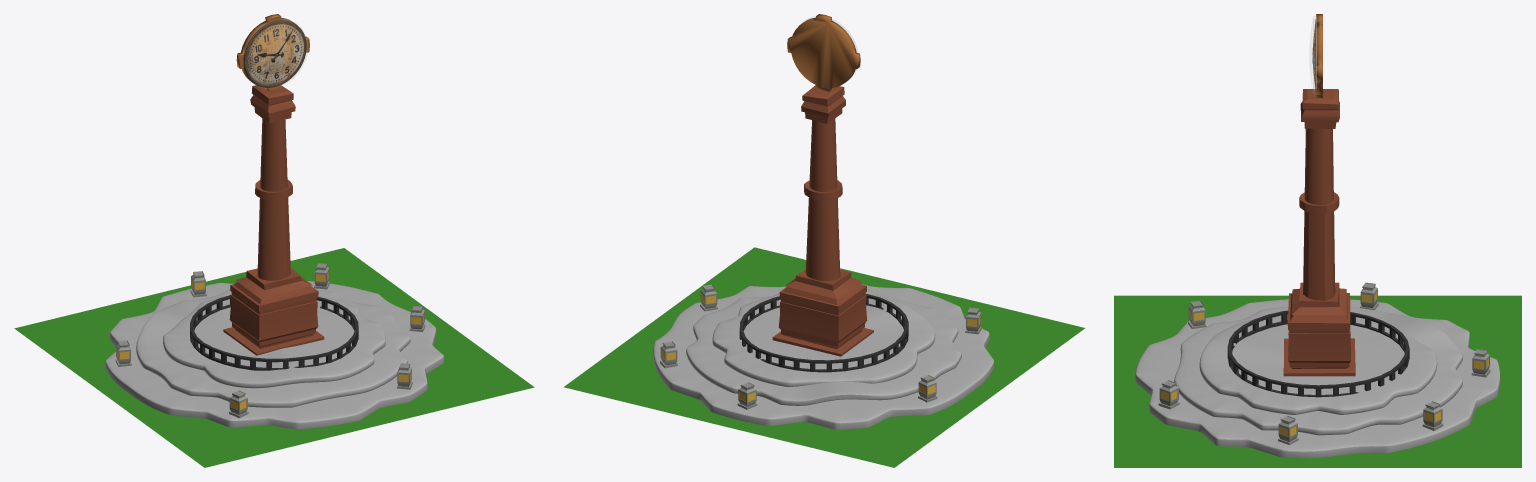
The model's file is Town_clock_fbx.fbx.
3 views of the same model, side by side, from view 1: azimuth 30°, elevation 25°; view 2: azimuth 150°, elevation 25°; view 3: azimuth 270°, elevation 25° (orthographic). The views are drawn at different scales.
Parts seen in each view (by area): view 1: Plane, Cube, Circle, Circle.008, Circle.001, Circle.006, Circle.009, Circle.003; view 2: Plane, Circle, Cube, Circle.008, Circle.001, Circle.003, Circle.009; view 3: Plane, Circle, Circle.008, Cube, Circle.001, Circle.009, Circle.003, Cube.003, Cube.002, Cube.001, Cube.004, Cube.006 (+1 smaller).
Boxes of the visible parts, x1,y1,x2,y2 form: Plane: (14,248,534,467); Cube: (223,85,324,355); Circle: (105,281,444,429); Circle.008: (163,296,385,388); Circle.001: (136,289,410,407); Circle.006: (243,20,306,87); Circle.009: (190,295,358,370); Circle.003: (236,14,309,91); Plane: (563,247,1084,467); Circle: (653,284,994,429); Cube: (772,85,873,356); Circle.008: (712,294,935,386); Circle.001: (686,289,961,405); Circle.003: (787,14,860,91); Circle.009: (739,294,908,372); Plane: (1114,295,1521,467); Circle: (1135,299,1500,458); Circle.008: (1199,314,1437,414); Cube: (1283,89,1355,376); Circle.001: (1174,306,1462,435); Circle.009: (1227,310,1409,397); Circle.003: (1316,14,1322,97); Cube.003: (1422,401,1443,430); Cube.002: (1158,380,1179,409); Cube.001: (1278,415,1298,444); Cube.004: (1471,349,1490,377); Cube.006: (1188,300,1206,329).
Bounding box in the file's own units: 222 × 221 × 222.
